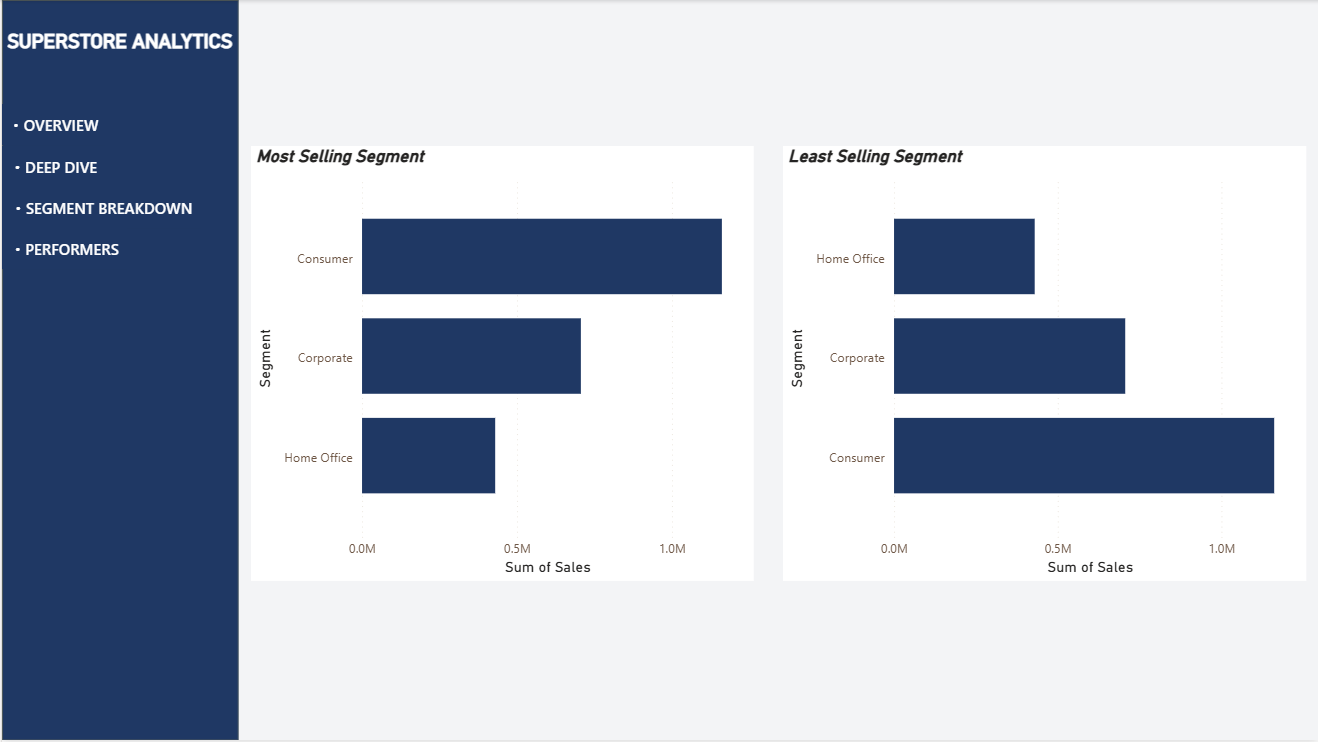

What the dashboard file says about the page in this screenshot:
{"tool":"powerbi","page":{"name":"Segment Breakdown","canvas":[1280,720],"ordinal":2},"visuals":[{"type":"clusteredBarChart","title":"Most Selling Segment","fields":{"Category":["SampleSuperstorecleaned.Segment"],"Y":["Sum(SampleSuperstorecleaned.Sales)"]},"box":[242.6,141.7,488.7,422.7],"z":0},{"type":"clusteredBarChart","title":"Least Selling Segment","fields":{"Category":["SampleSuperstorecleaned.Segment"],"Y":["Sum(SampleSuperstorecleaned.Sales)"]},"box":[760.1,141.7,509.1,422.7],"z":1000},{"type":"shape","box":[0,0,230.3,720.3],"z":2000},{"type":"textbox","box":[0,23.6,242.1,56.7],"z":3000},{"type":"actionButton","box":[0,101.5,100.4,40.1],"z":4000},{"type":"actionButton","box":[0,141.7,100.4,40.1],"z":5000},{"type":"actionButton","box":[0,181.8,193.7,40.1],"z":6000},{"type":"actionButton","box":[0,222,121.6,40.1],"z":7000}]}

Visuals, with their boxes in screenshot pixels (x1, y1, x2, y2), scaled from the page's 1280x720 canvas onto the 1318x742 screenshot:
"Most Selling Segment" clusteredBarChart: 250,146,753,582
"Least Selling Segment" clusteredBarChart: 783,146,1307,582
shape: 0,0,237,741
textbox: 0,24,249,83
actionButton: 0,105,103,146
actionButton: 0,146,103,187
actionButton: 0,187,199,229
actionButton: 0,229,125,270
